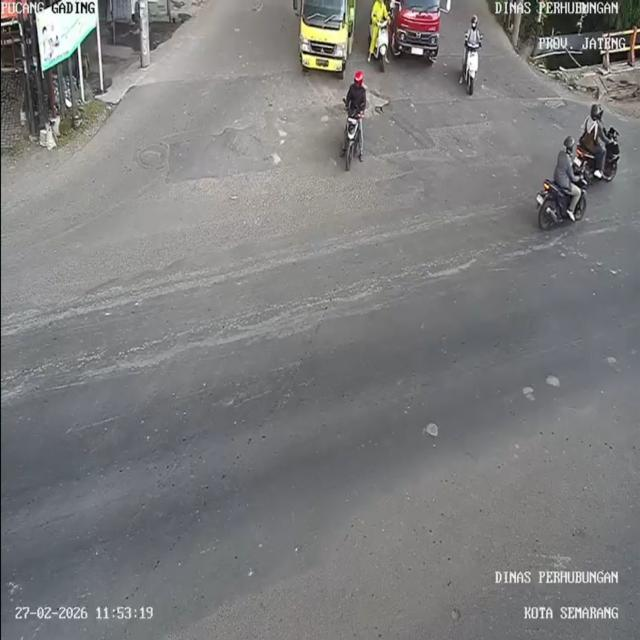motorcycle: (535, 170, 593, 230), (576, 133, 624, 185), (340, 106, 366, 175), (372, 19, 392, 72), (465, 40, 480, 96)
person: (552, 134, 579, 218), (344, 68, 368, 118), (595, 106, 611, 176), (581, 104, 599, 152), (463, 13, 485, 47), (372, 0, 390, 24)
rider_region: (532, 131, 587, 231), (574, 107, 621, 182), (338, 63, 370, 173), (460, 12, 487, 104), (368, 0, 393, 73)
